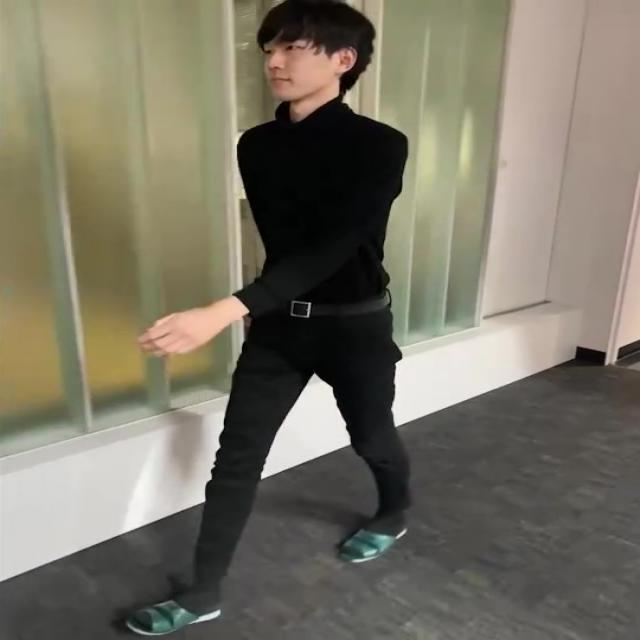direk: (123, 3, 418, 640)
